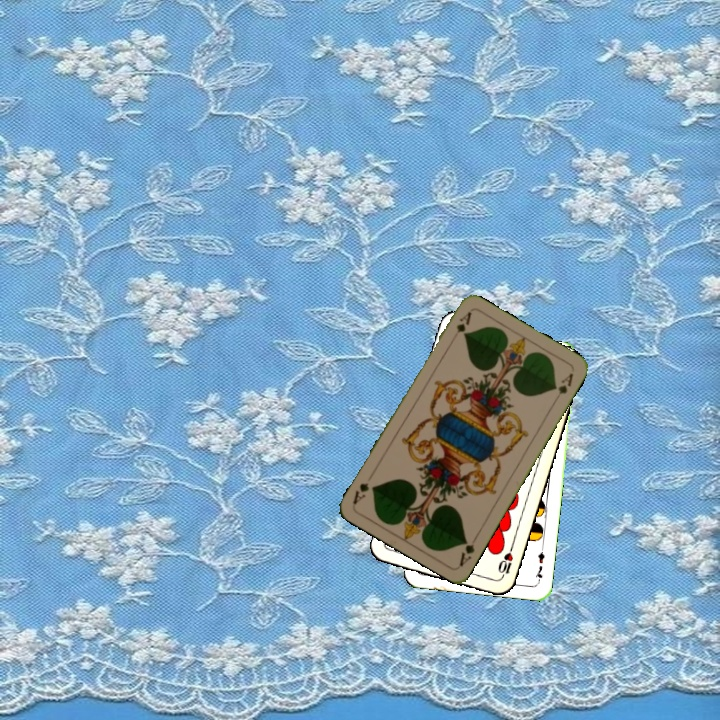E7: (531, 544, 547, 584)
GA: (455, 531, 480, 569), (452, 308, 474, 335)
H10: (494, 542, 516, 581)
